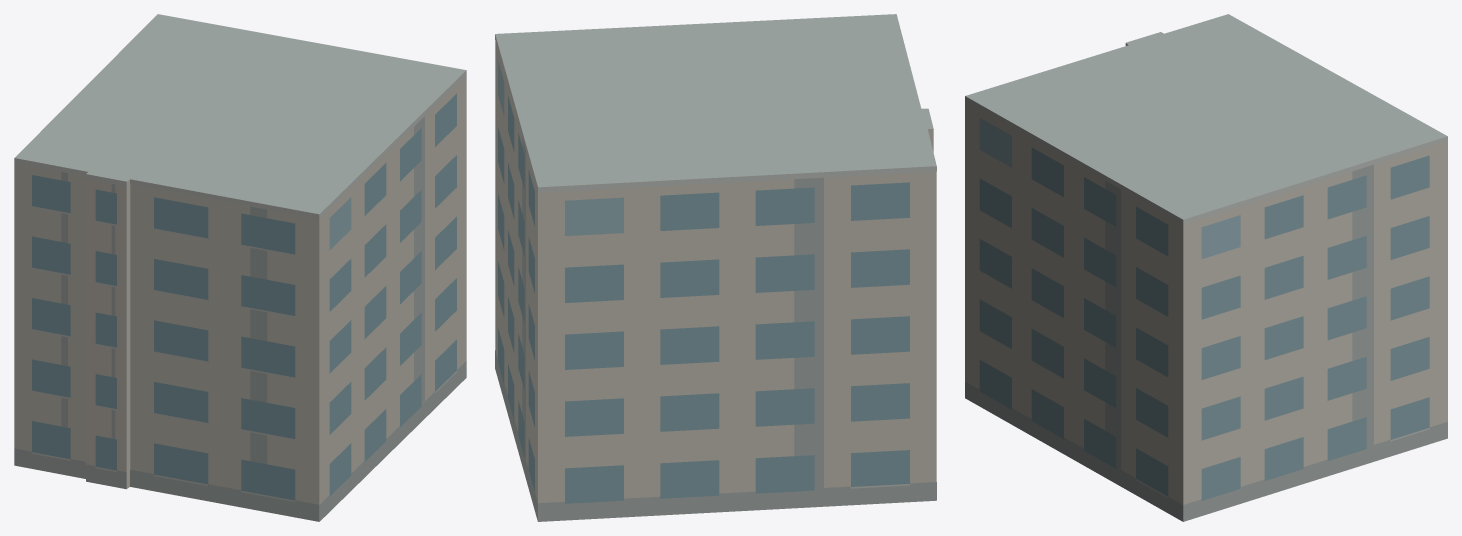
Rendered from survey-upis-32528467.glb.
The picture shows the model from 3 angles, left to right: view 1: azimuth 30°, elevation 25°; view 2: azimuth 150°, elevation 25°; view 3: azimuth 270°, elevation 25°; orthographic projection. The views are drawn at different scales.
Parts seen in each view (by area): view 1: survey-upis-32528467.tmp; view 2: survey-upis-32528467.tmp; view 3: survey-upis-32528467.tmp.
Boxes of the visible parts, box(x1,y1,x2,y2) form: survey-upis-32528467.tmp: box(14, 14, 466, 521); survey-upis-32528467.tmp: box(495, 14, 936, 521); survey-upis-32528467.tmp: box(965, 14, 1447, 521).
Size of the model in its own units: 21.62 by 14.8 by 21.44.
